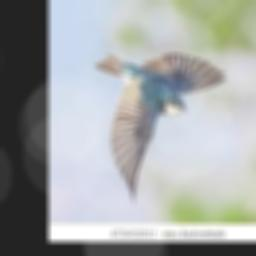Swallow: (93, 51, 226, 205)
